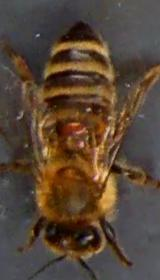varroa_mite: (50, 120, 89, 144)
